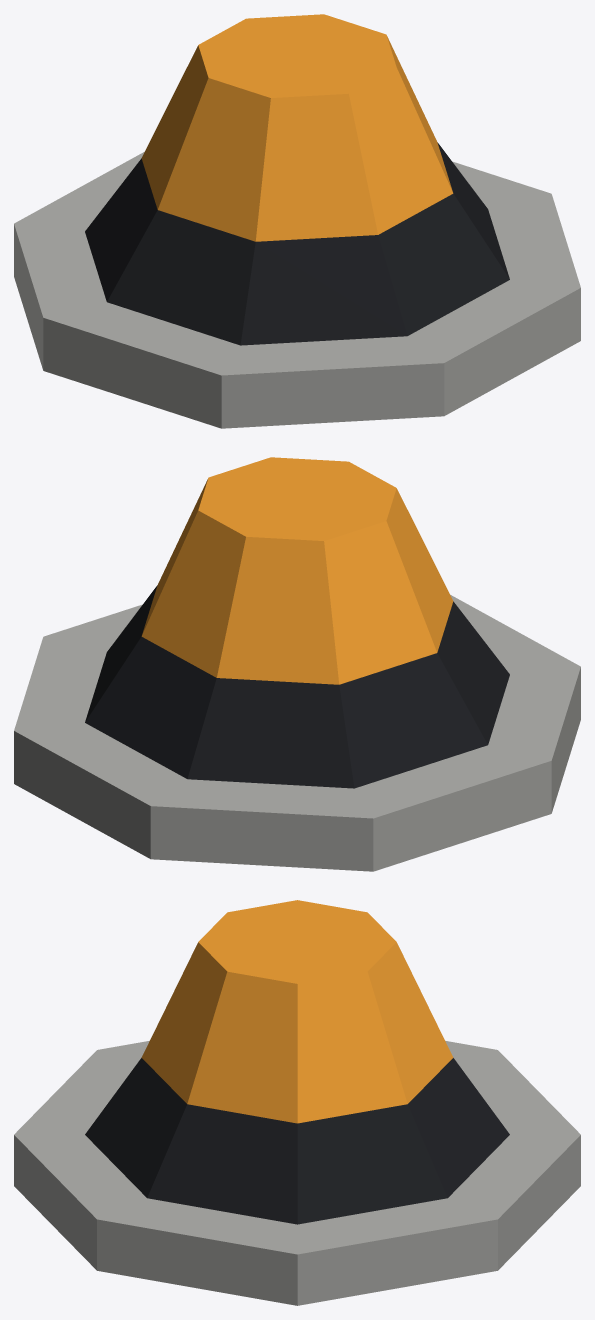
File: civilian_beacon.glb
3 views of the same model, one above another, from view 1: azimuth 30°, elevation 25°; view 2: azimuth 150°, elevation 25°; view 3: azimuth 270°, elevation 25° (orthographic). The views are drawn at different scales.
Bounding box in the file's own units: 0.2 × 0.095 × 0.2.
